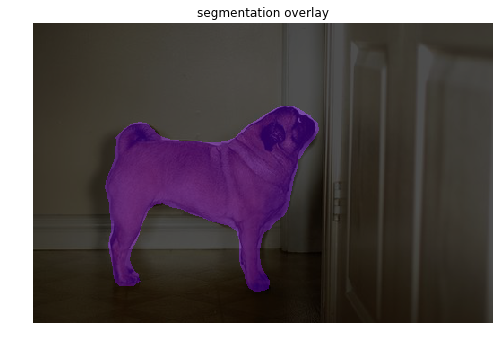unlabelled: (38, 27, 486, 319)
